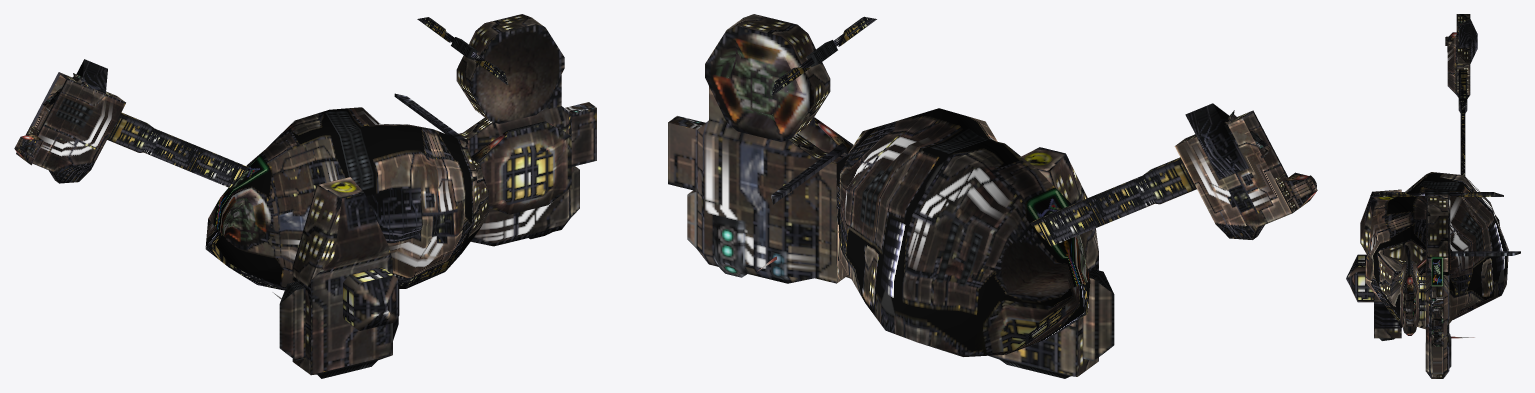
3 renders of one model, left to right at view 1: azimuth 30°, elevation 25°; view 2: azimuth 150°, elevation 25°; view 3: azimuth 270°, elevation 25°, orthographic. The views are drawn at different scales.
Parts seen in each view (by area): view 1: frm-sphere6, frm-cube23, frm-cyl2, frm-cube38, frm-cube7, frm-cube24, frm-cube4, frm-cube39, frm-cube28, frm-east_bay_11_9, frm-cube13, frm-cube3; view 2: frm-sphere6, frm-cube24, frm-cyl2, frm-cube7, frm-cube4, frm-cube23, frm-cube28, frm-cube13, frm-east_bay_11_9, frm-cube31, frm-cube38, frm-cube3 (+1 smaller); view 3: frm-sphere6, frm-cube24, frm-cyl2, frm-cube38, frm-cube7, frm-cube23, frm-cube39, frm-cube4, frm-east_bay_11_9, frm-cube13, frm-cube41, frm-cube3 (+5 smaller).
Boxes of the visible parts, x1,y1,x2,y2 form: frm-sphere6: (205,107,488,290); frm-cube23: (292,177,392,378); frm-cyl2: (456,14,564,123); frm-cube38: (471,121,571,214); frm-cube7: (16,72,125,183); frm-cube24: (458,106,579,246); frm-cube4: (107,112,248,187); frm-cube39: (343,267,399,330); frm-cube28: (279,281,305,360); frm-east_bay_11_9: (564,102,596,166); frm-cube13: (76,59,107,93); frm-cube3: (394,93,468,144); frm-sphere6: (836,108,1090,356); frm-cube24: (687,120,845,283); frm-cyl2: (705,14,830,141); frm-cube7: (1174,110,1297,239); frm-cube4: (1030,157,1196,246); frm-cube23: (988,147,1098,378); frm-cube28: (1082,269,1114,360); frm-cube13: (1185,103,1246,179); frm-east_bay_11_9: (668,116,705,190); frm-cube31: (714,216,747,277); frm-cube38: (798,117,853,156); frm-cube3: (771,143,847,204); frm-sphere6: (1365,172,1508,329); frm-cube24: (1425,268,1449,378); frm-cyl2: (1426,194,1450,275); frm-cube38: (1400,260,1425,335); frm-cube7: (1447,14,1470,98); frm-cube23: (1360,189,1401,340); frm-cube39: (1346,254,1373,302); frm-cube4: (1458,69,1467,175); frm-east_bay_11_9: (1431,297,1443,346); frm-cube13: (1458,18,1477,63); frm-cube41: (1374,304,1402,328); frm-cube3: (1421,251,1520,256).
Size of the model in its own units: 172 by 89.37 by 59.19.
